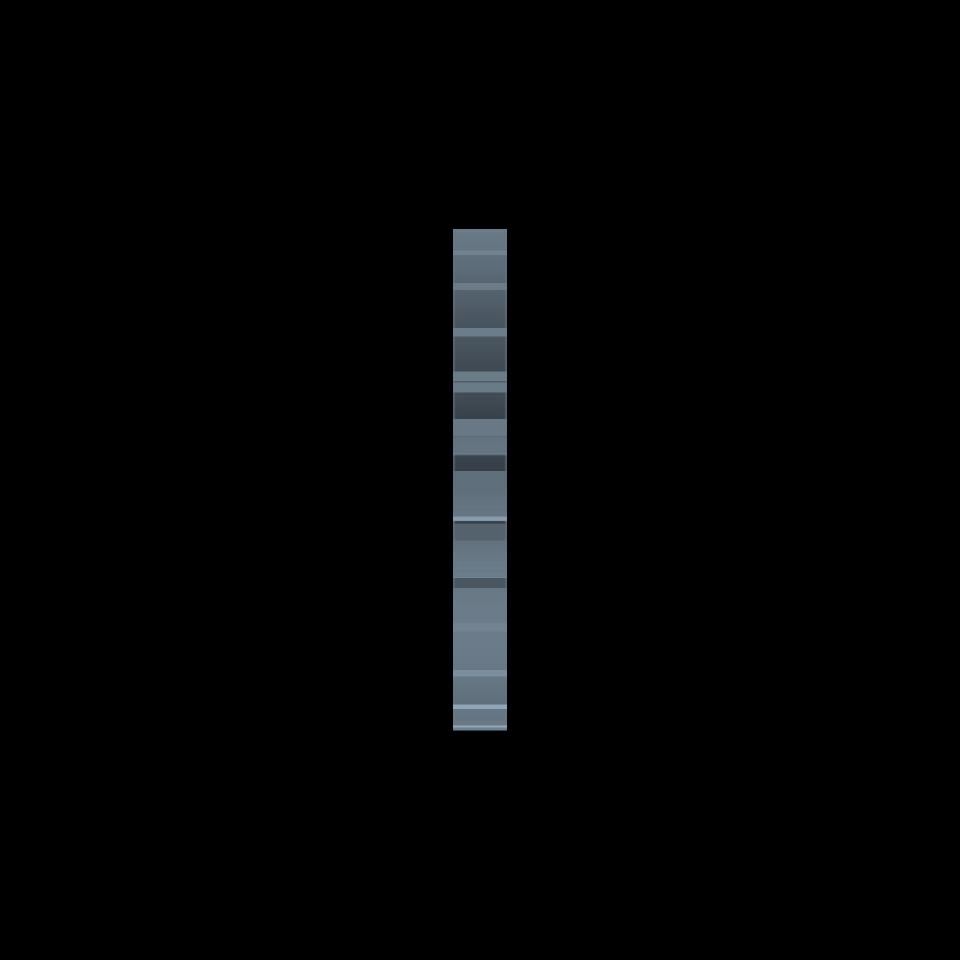Straight: (452, 228, 507, 729)
